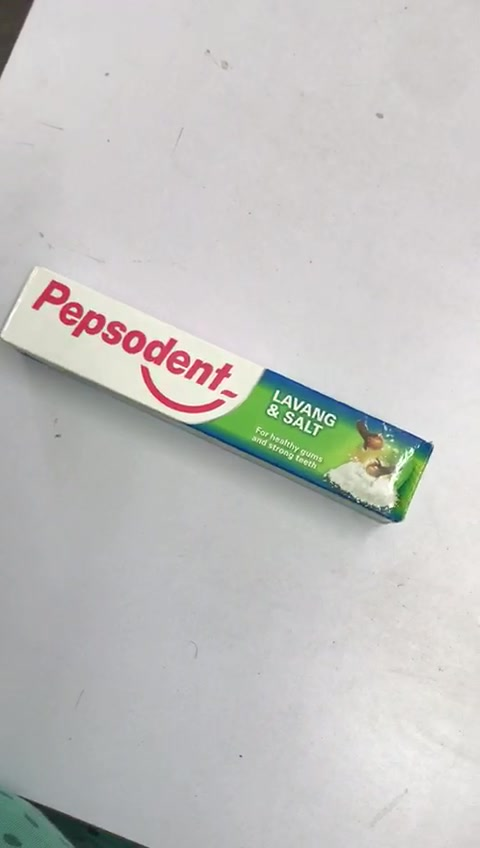pepsodent: (3, 262, 433, 524)
